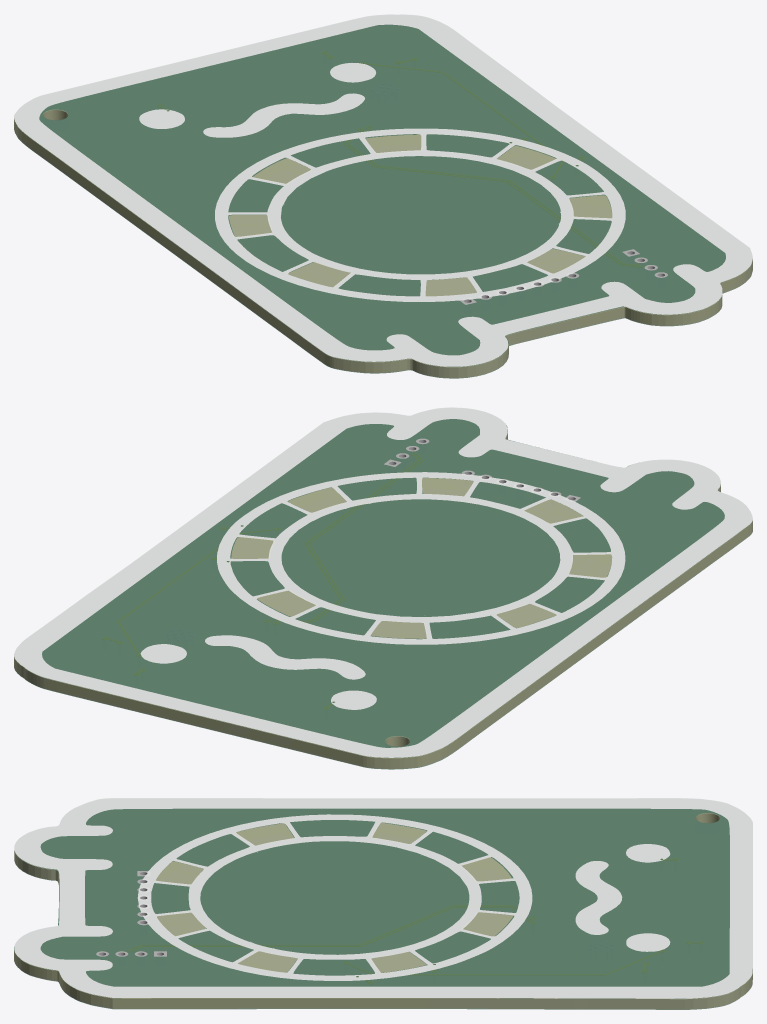
Rendered from maibadge-cab.glb.
3 views of the same model, one above another, from view 1: azimuth 30°, elevation 25°; view 2: azimuth 150°, elevation 25°; view 3: azimuth 270°, elevation 25° (orthographic). The views are drawn at different scales.
Parts seen in each view (by area): view 1: =>[0:1:1:9], =>[0:1:1:7], =>[0:1:1:5], =>[0:1:1:2]; view 2: =>[0:1:1:9], =>[0:1:1:7], =>[0:1:1:5], =>[0:1:1:2]; view 3: =>[0:1:1:9], =>[0:1:1:7], =>[0:1:1:5], =>[0:1:1:2].
Part boxes in pixels (box(x1,y1,x2,y2)): =>[0:1:1:9]: box(14, 25, 752, 378); =>[0:1:1:7]: box(15, 24, 751, 378); =>[0:1:1:5]: box(14, 14, 752, 366); =>[0:1:1:2]: box(158, 52, 667, 304); =>[0:1:1:9]: box(14, 419, 752, 769); =>[0:1:1:7]: box(14, 419, 752, 769); =>[0:1:1:5]: box(14, 407, 752, 757); =>[0:1:1:2]: box(102, 438, 580, 708); =>[0:1:1:9]: box(14, 809, 752, 1009); =>[0:1:1:7]: box(14, 808, 752, 1009); =>[0:1:1:5]: box(14, 798, 752, 998); =>[0:1:1:2]: box(96, 859, 703, 983).
Size of the model in its own units: 0.0625 by 0.00166 by 0.0972.
Materials: 4 (4 with a texture image).
